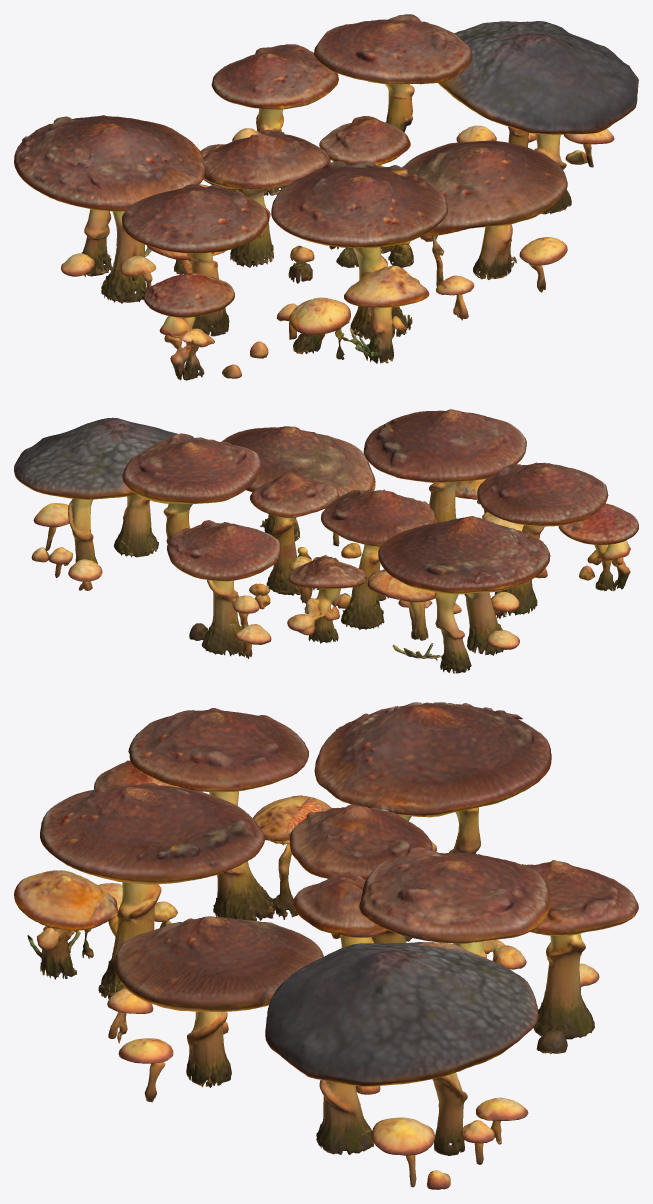
The model's file is mushrooms.glb.
3 renders of one model, top to bottom at view 1: azimuth 30°, elevation 25°; view 2: azimuth 150°, elevation 25°; view 3: azimuth 270°, elevation 25°, orthographic. The views are drawn at different scales.
Size of the model in its own units: 1.99 by 0.5971 by 1.5.
1 material, 1 textured.
